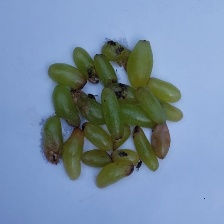grapes: (46, 36, 189, 218)
